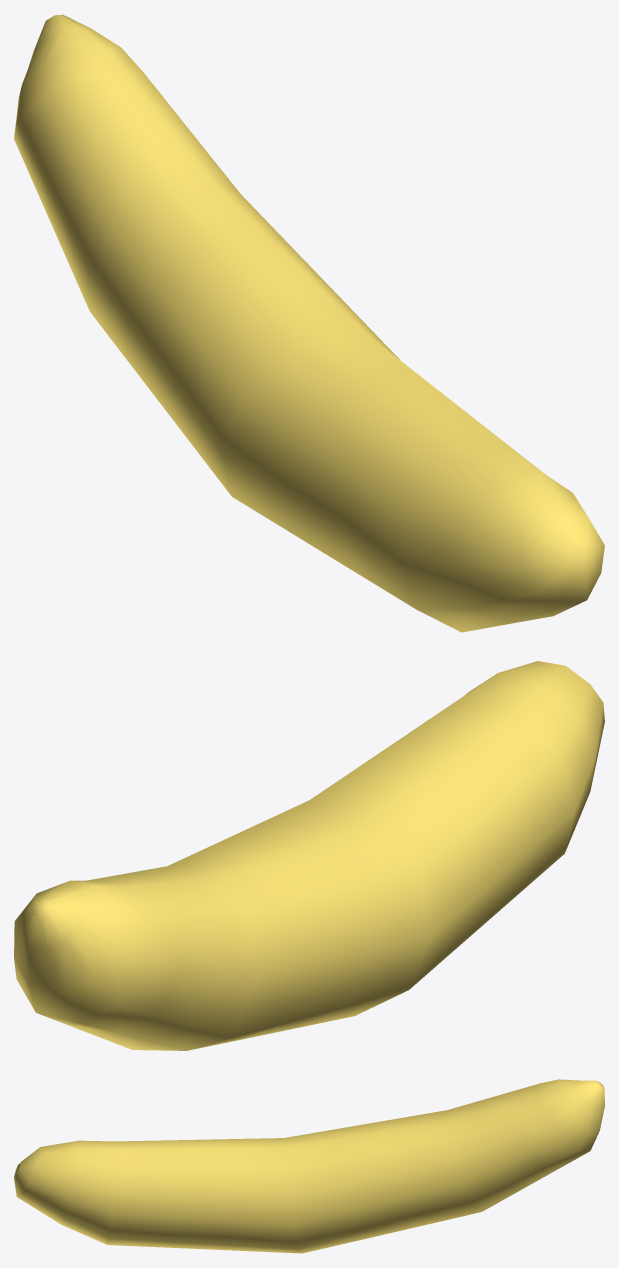
The model's file is Banana_Peeled_Whole.fbx.
3 renders of one model, top to bottom at view 1: azimuth 30°, elevation 25°; view 2: azimuth 150°, elevation 25°; view 3: azimuth 270°, elevation 25°, orthographic. The views are drawn at different scales.
Parts seen in each view (by area): view 1: SM_Prop_Banana_01; view 2: SM_Prop_Banana_01; view 3: SM_Prop_Banana_01.
Boxes of the visible parts, x1=… form: SM_Prop_Banana_01: x1=14, y1=14, x2=604, y2=632; SM_Prop_Banana_01: x1=14, y1=661, x2=604, y2=1050; SM_Prop_Banana_01: x1=14, y1=1079, x2=604, y2=1253.
Size of the model in its own units: 37.35 by 53.7 by 172.
